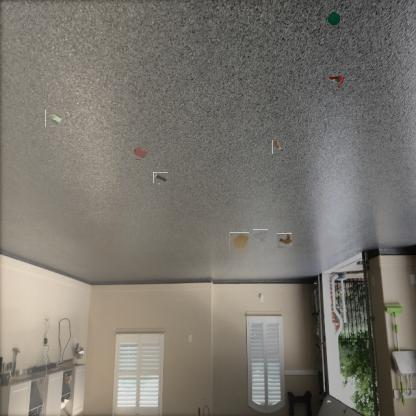dirty: (45, 109, 64, 127), (329, 71, 345, 88), (277, 233, 292, 247), (326, 12, 340, 26), (272, 141, 286, 154), (154, 171, 167, 184), (254, 227, 267, 240)
liquid: (229, 232, 249, 255), (133, 147, 147, 159)
